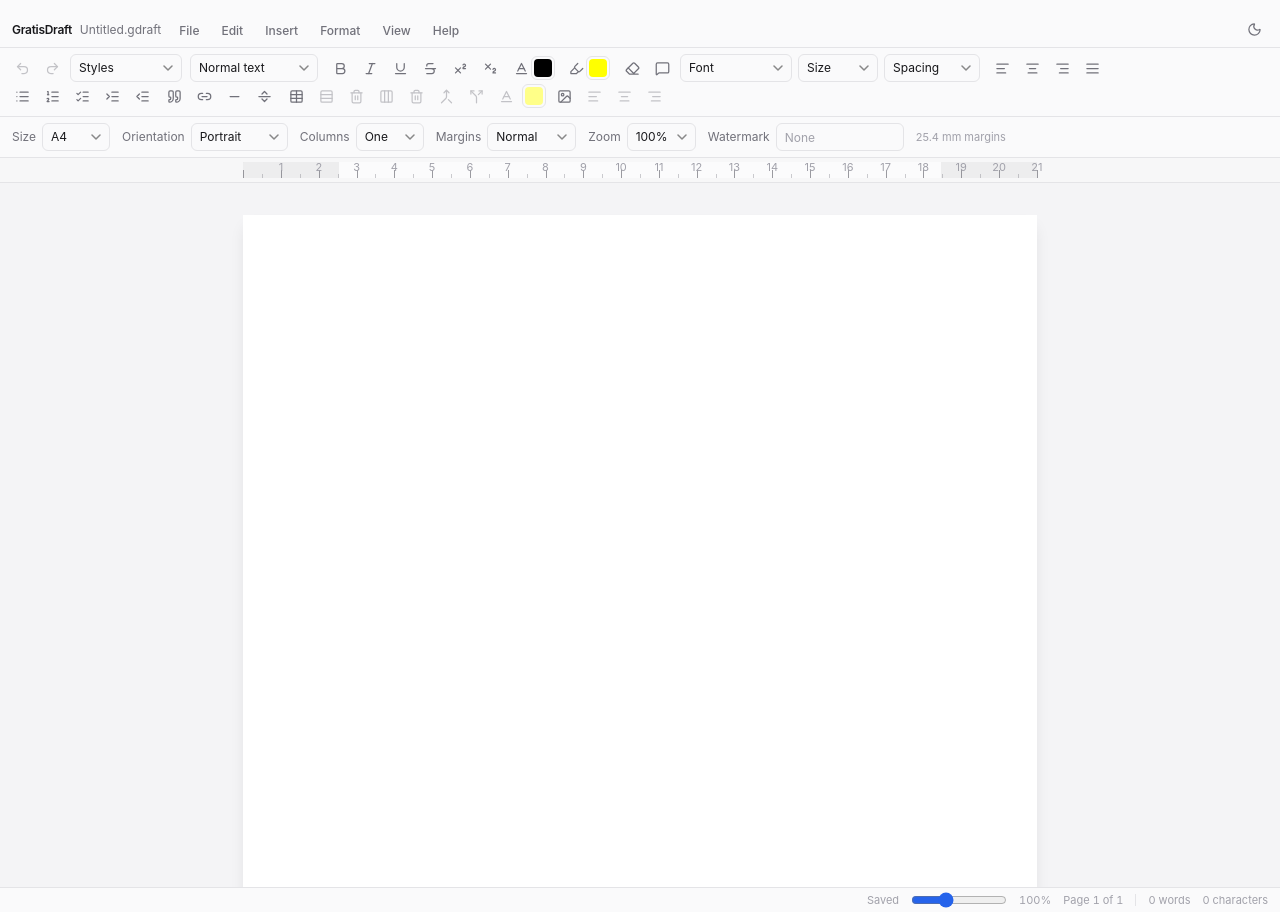
it: App shell › shows document state and a zoom slider in the status bar
This screenshot has width=1280, height=912.
Expected: the text with test id "doc-state" reads "Saved", [867,893,899,907]
Set the slider named "Zoom slider" to "150": (972, 900) [911,892,1007,908]
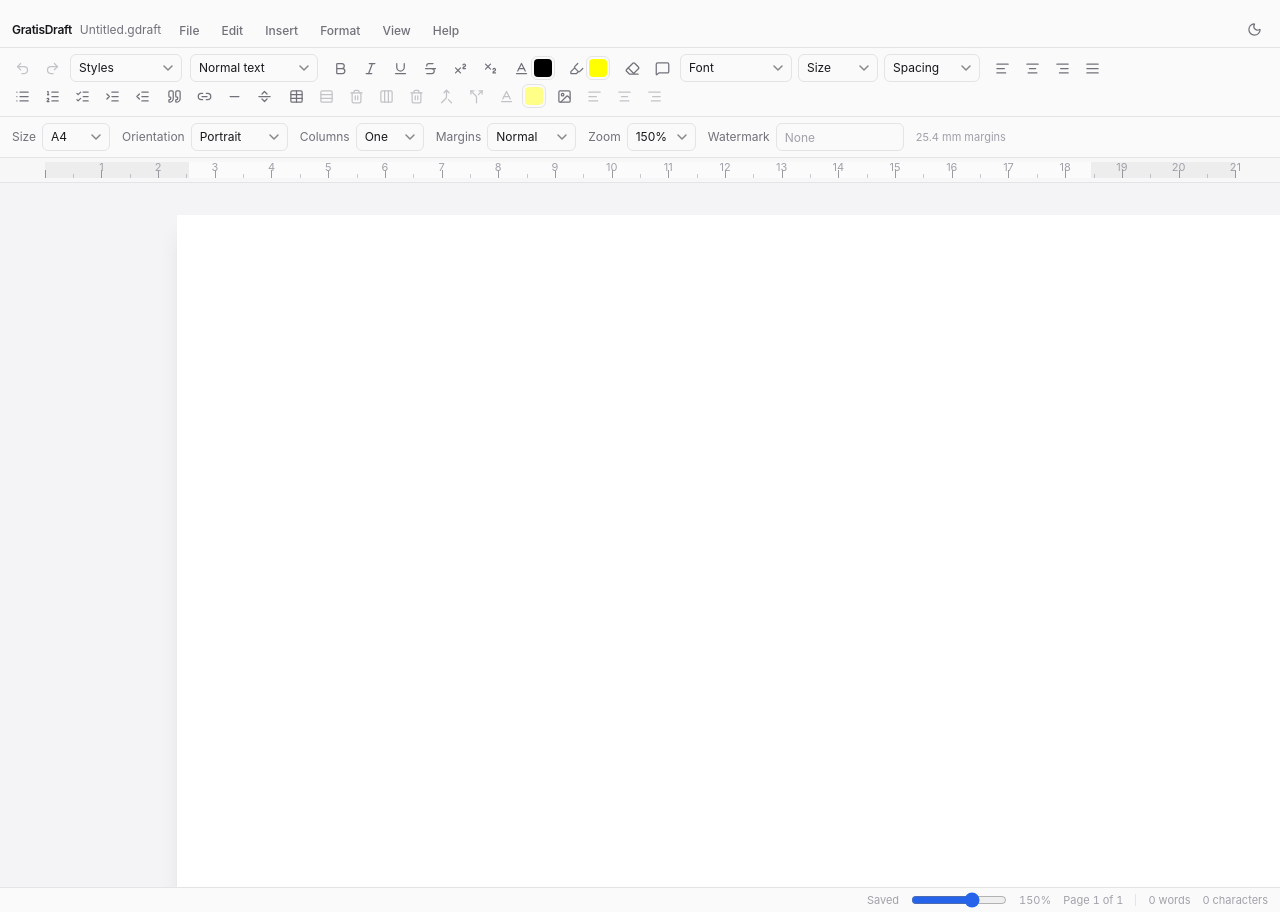
Expected: the text with test id "zoom-level" reads "150%", [1019,892,1051,908]
